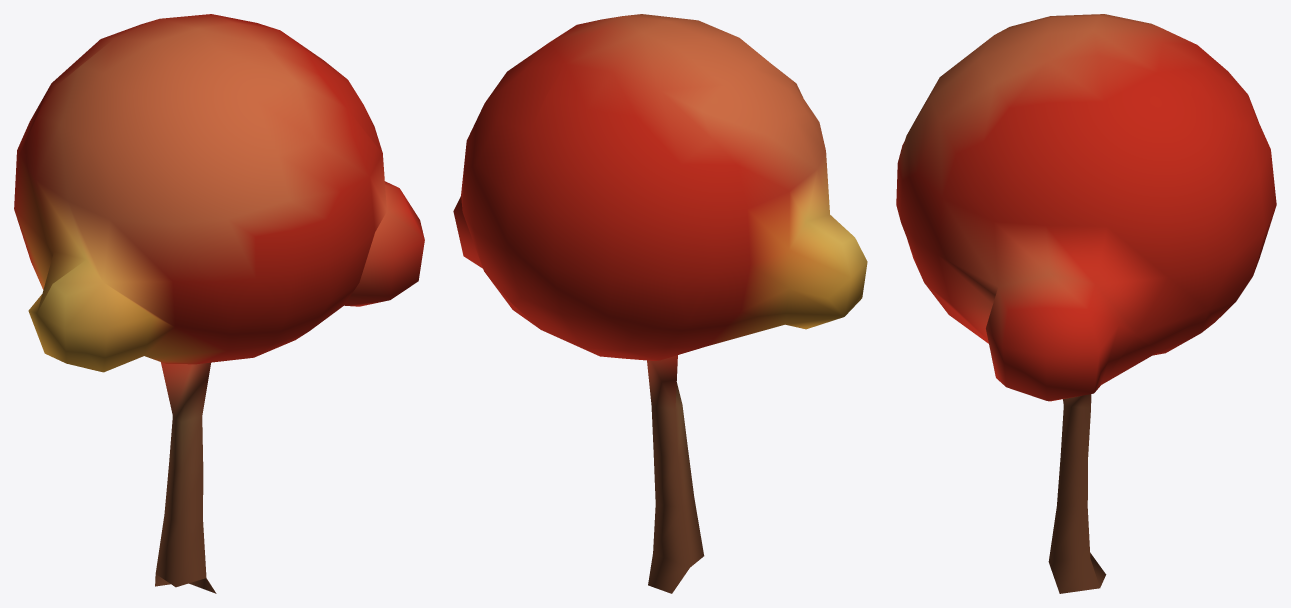
Rendered from lollipop-tree-106-lod3.obj.
3 renders of one model, left to right at view 1: azimuth 30°, elevation 25°; view 2: azimuth 150°, elevation 25°; view 3: azimuth 270°, elevation 25°, orthographic. The views are drawn at different scales.
Visible parts, largest first — view 1: simplified; view 2: simplified; view 3: simplified.
Part boxes in pixels (x1,y1,x2,y2): simplified: (14, 14, 424, 593); simplified: (453, 14, 867, 593); simplified: (896, 14, 1276, 593).
Bounding box in the file's own units: 358 × 492 × 302.
